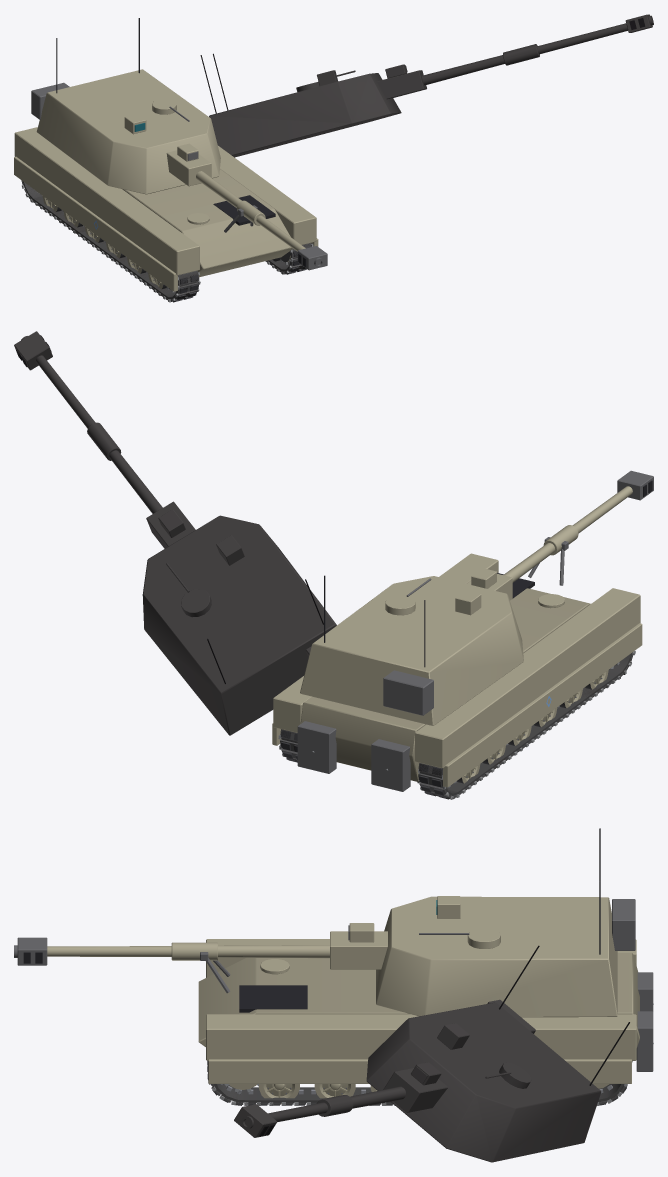
The model's file is artillery__as9_huntsman.glb.
The picture shows the model from 3 angles, top to bottom: view 1: azimuth 30°, elevation 25°; view 2: azimuth 150°, elevation 25°; view 3: azimuth 270°, elevation 25°; orthographic projection. The views are drawn at different scales.
Parts seen in each view (by area): view 1: Hull_Mesh, Turret_Mesh, Wreck, Gun_Mesh, Track_L_Mesh, Track_R_Mesh; view 2: Wreck, Hull_Mesh, Turret_Mesh, Gun_Mesh, Track_L_Mesh; view 3: Hull_Mesh, Wreck, Turret_Mesh, Gun_Mesh, Track_R_Mesh, Wheel_R5_Mesh, Wheel_R4_Mesh.
Part boxes in pixels (left/top/right/bottom): Hull_Mesh: left=14, top=127, right=318, bottom=291; Turret_Mesh: left=31, top=18, right=220, bottom=194; Wreck: left=23, top=14, right=653, bottom=301; Gun_Mesh: left=166, top=143, right=327, bottom=270; Track_L_Mesh: left=21, top=180, right=200, bottom=302; Track_R_Mesh: left=266, top=243, right=313, bottom=274; Wreck: left=14, top=331, right=635, bottom=799; Hull_Mesh: left=272, top=537, right=642, bottom=791; Turret_Mesh: left=300, top=575, right=523, bottom=725; Gun_Mesh: left=467, top=470, right=653, bottom=600; Track_L_Mesh: left=417, top=651, right=635, bottom=799; Hull_Mesh: left=198, top=939, right=653, bottom=1083; Wreck: left=211, top=945, right=629, bottom=1162; Turret_Mesh: left=376, top=828, right=635, bottom=1017; Gun_Mesh: left=14, top=923, right=387, bottom=969; Track_R_Mesh: left=207, top=1061, right=627, bottom=1105; Wheel_R5_Mesh: left=259, top=1084, right=299, bottom=1104; Wheel_R4_Mesh: left=314, top=1084, right=355, bottom=1098.
Size of what is drawn, in the model's own units: 12.77 by 4.15 by 10.78.
